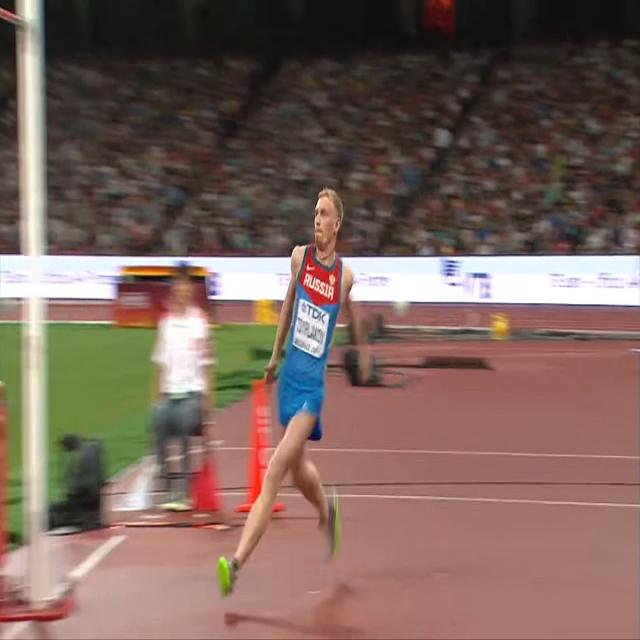run: (218, 185, 370, 599)
